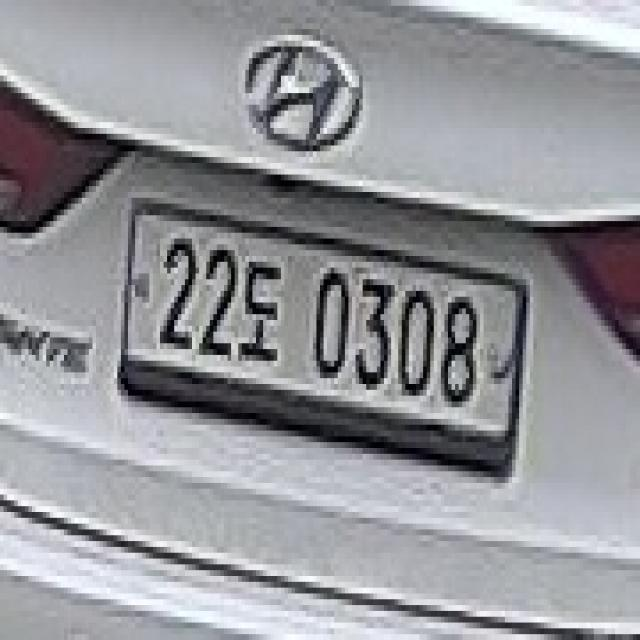0: (310, 259, 354, 382), (396, 280, 440, 402)
2: (154, 225, 202, 355), (197, 237, 240, 364)
3: (351, 265, 399, 396)
8: (438, 285, 486, 415)
do: (238, 250, 287, 371)
license_plate: (127, 208, 517, 433)
